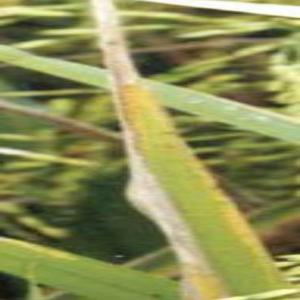Bacterial_Blight: (130, 106, 244, 281)
